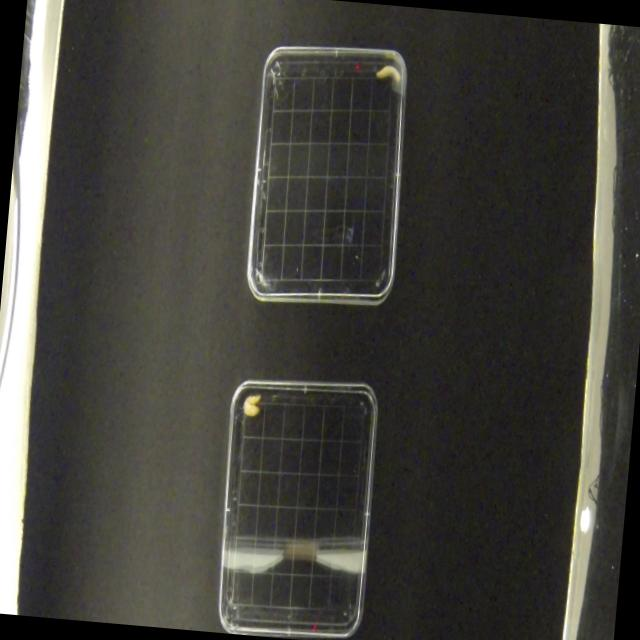larva: (241, 390, 265, 422), (375, 61, 402, 86)
